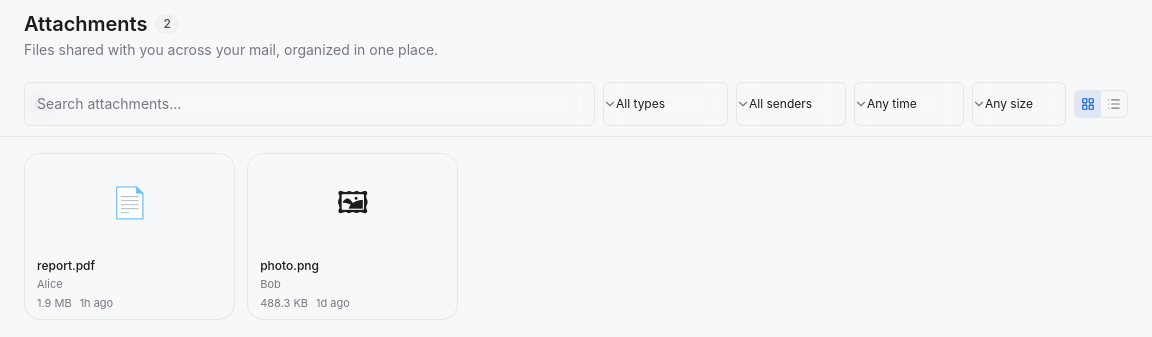
Test: AttachmentLibrary › filters by type
Expected: the text "report.pdf" is shown, [37,258,95,273]
# Select "Images" type filter
Select "Images" in the dropdown showing "All types" at [666, 104], box [603,82,728,126]
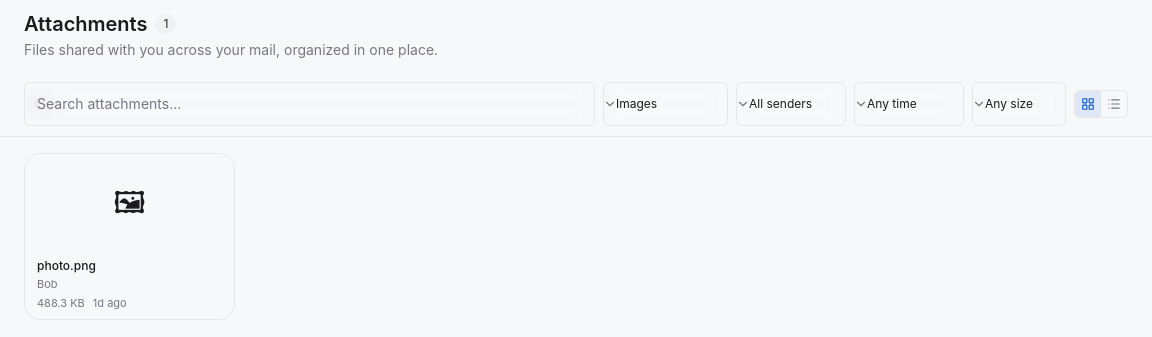
Expected: the text "photo.png" is shown, [37,258,96,273]
Expected: the text "report.pdf" is gone
